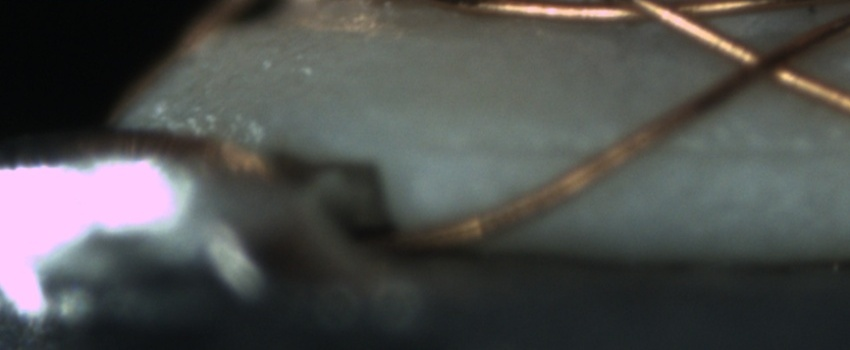CL: (718, 30, 811, 93)
DL: (414, 125, 850, 185)
